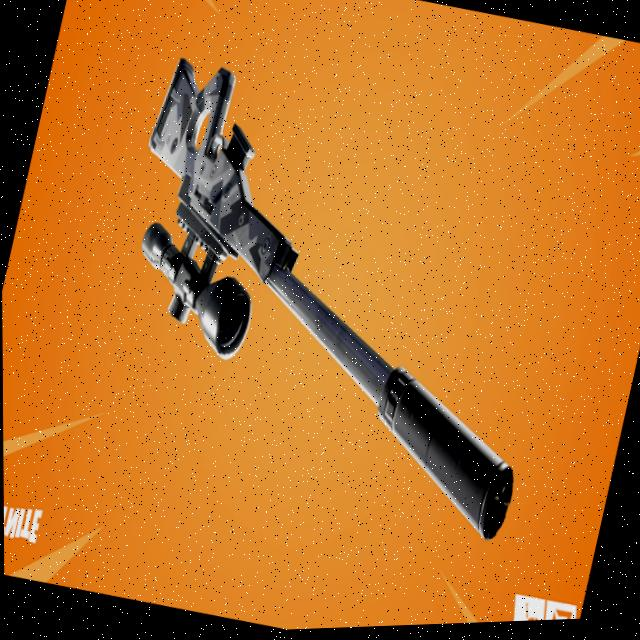firearm: (74, 41, 593, 559)
